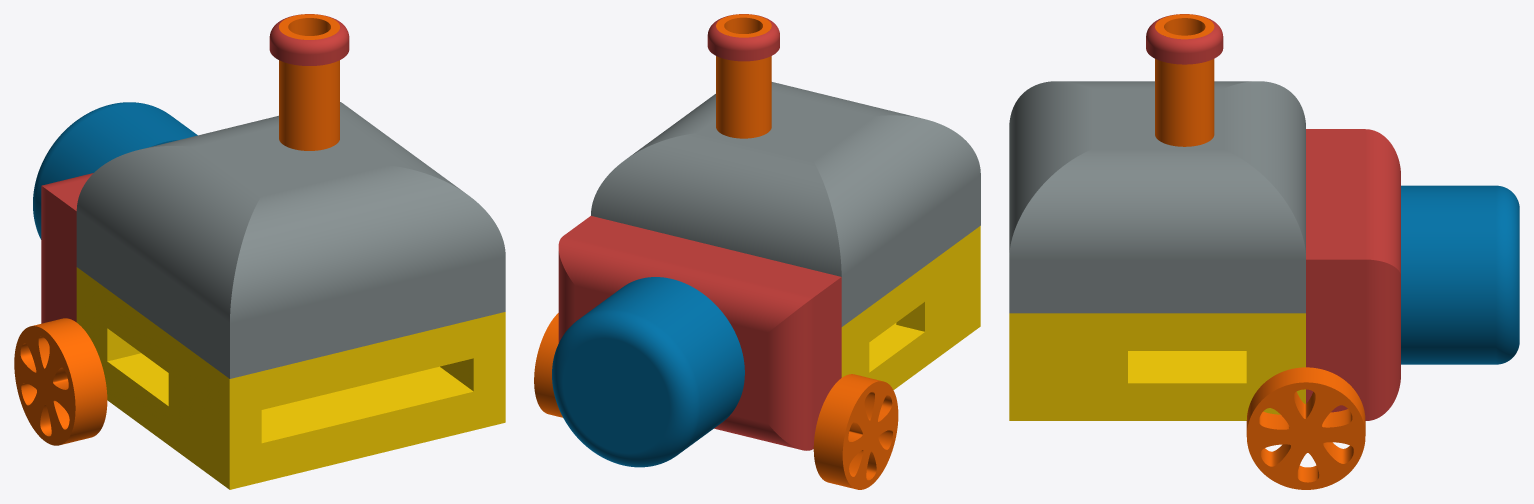
Rendered from ConnectionHead.glb.
3 views of the same model, side by side, from view 1: azimuth 30°, elevation 25°; view 2: azimuth 150°, elevation 25°; view 3: azimuth 270°, elevation 25° (orthographic). The views are drawn at different scales.
Visible parts, largest first — view 1: ConnectionHEAD_BL (×7); view 2: ConnectionHEAD_BL (×8); view 3: ConnectionHEAD_BL (×7).
Boxes of the visible parts, x1,y1,x2,y2 form: ConnectionHEAD_BL (×7): (14,14,505,489); ConnectionHEAD_BL (×8): (534,14,980,489); ConnectionHEAD_BL (×7): (1009,14,1519,489).
Bounding box in the file's own units: 0.032 × 0.037 × 0.043.
